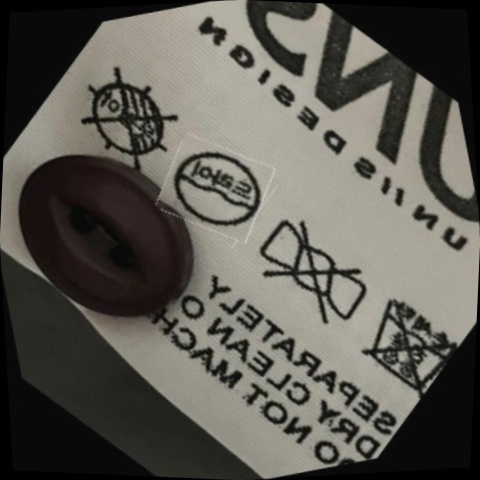DN_dry: (70, 60, 188, 179)
DN_wring: (247, 208, 379, 340)
dry_clean: (163, 135, 269, 244)
hand_wash: (349, 281, 461, 401)
